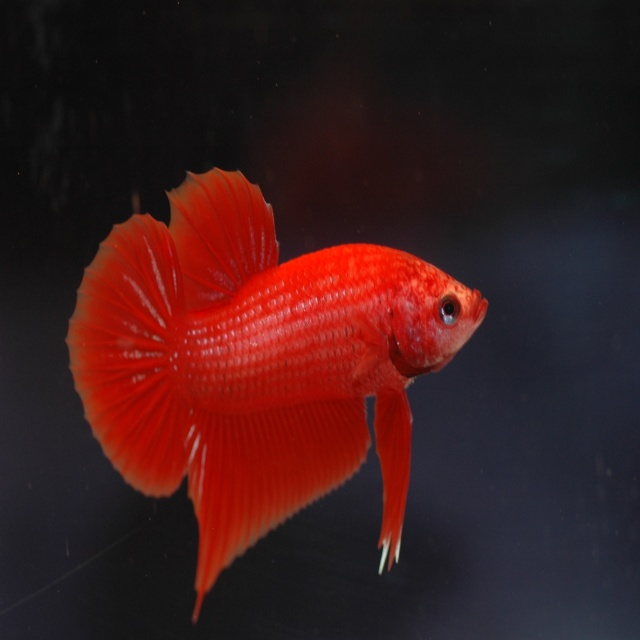Goldfish: (66, 170, 484, 615)
